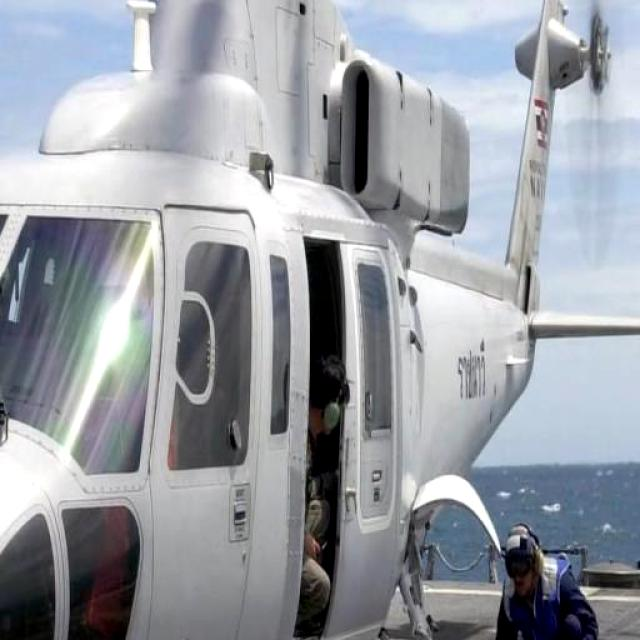drone: (0, 0, 604, 640)
